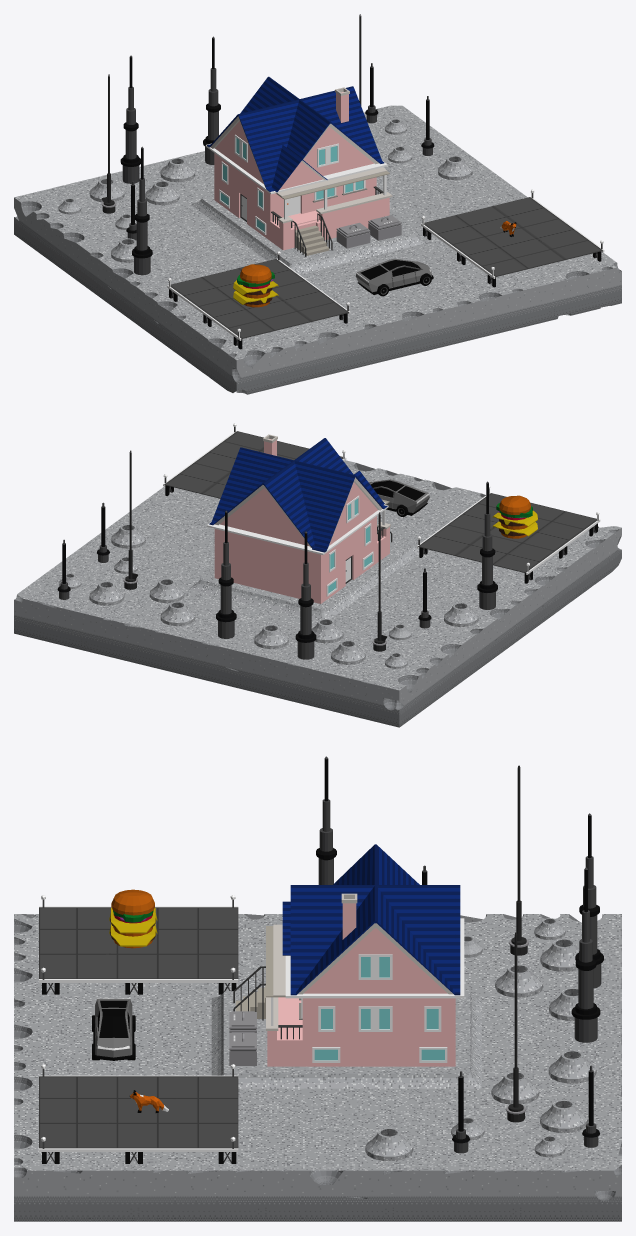
The picture shows the model from 3 angles, top to bottom: view 1: azimuth 30°, elevation 25°; view 2: azimuth 150°, elevation 25°; view 3: azimuth 270°, elevation 25°; orthographic projection. The views are drawn at different scales.
Visible parts, largest first — view 1: Cube.027, Cube.313, Cube.026, Cube.025, Cube.028, VEHICLES_CYBERTRUCK, OBJRANDOM_HAMBURGER, Cylinder.020, Cylinder.021, Cylinder.017, Cube.029, Cube.030 (+4 smaller); view 2: Cube.027, Cube.313, Cube.025, Cube.028, Cube.026, OBJRANDOM_HAMBURGER, VEHICLES_CYBERTRUCK, Cylinder.020, Cylinder.021, Cylinder.017, Cylinder.031, Cylinder.028 (+8 smaller); view 3: Cube.027, Cube.313, Cube.026, Cube.025, Cube.028, VEHICLES_CYBERTRUCK, OBJRANDOM_HAMBURGER, Cylinder.017, Cylinder.020, Cylinder.021, Cylinder.033, Cylinder.031 (+10 smaller).
Boxes of the visible parts, bbox=[...] form: Cube.027: bbox=[14, 105, 621, 394]; Cube.313: bbox=[205, 76, 392, 256]; Cube.026: bbox=[421, 189, 604, 287]; Cube.025: bbox=[167, 251, 350, 349]; Cube.028: bbox=[191, 195, 424, 274]; VEHICLES_CYBERTRUCK: bbox=[355, 258, 433, 296]; OBJRANDOM_HAMBURGER: bbox=[233, 264, 278, 307]; Cylinder.020: bbox=[120, 55, 140, 183]; Cylinder.021: bbox=[132, 146, 152, 275]; Cylinder.017: bbox=[203, 36, 220, 164]; Cube.029: bbox=[336, 222, 370, 248]; Cube.030: bbox=[368, 215, 401, 240]; Cube.027: bbox=[14, 460, 621, 727]; Cube.313: bbox=[206, 434, 392, 603]; Cube.025: bbox=[417, 485, 600, 583]; Cube.028: bbox=[190, 538, 419, 620]; Cube.026: bbox=[163, 423, 346, 498]; OBJRANDOM_HAMBURGER: bbox=[492, 495, 537, 538]; VEHICLES_CYBERTRUCK: bbox=[369, 479, 429, 517]; Cylinder.020: bbox=[295, 531, 316, 659]; Cylinder.021: bbox=[477, 481, 497, 609]; Cylinder.017: bbox=[216, 510, 236, 638]; Cylinder.031: bbox=[89, 581, 124, 605]; Cylinder.028: bbox=[331, 640, 365, 664]; Cube.027: bbox=[14, 914, 621, 1221]; Cube.313: bbox=[233, 844, 464, 1066]; Cube.026: bbox=[39, 1064, 238, 1163]; Cube.025: bbox=[39, 895, 238, 994]; Cube.028: bbox=[211, 991, 481, 1088]; VEHICLES_CYBERTRUCK: bbox=[92, 998, 135, 1060]; OBJRANDOM_HAMBURGER: bbox=[109, 889, 157, 948]; Cylinder.017: bbox=[571, 867, 600, 1042]; Cylinder.020: bbox=[575, 813, 603, 988]; Cylinder.021: bbox=[316, 756, 336, 884]; Cylinder.033: bbox=[365, 1128, 413, 1160]; Cylinder.031: bbox=[540, 1100, 587, 1132].
Bounding box in the file's own units: 4000 × 1799 × 4000.
36 materials, 4 textured.
